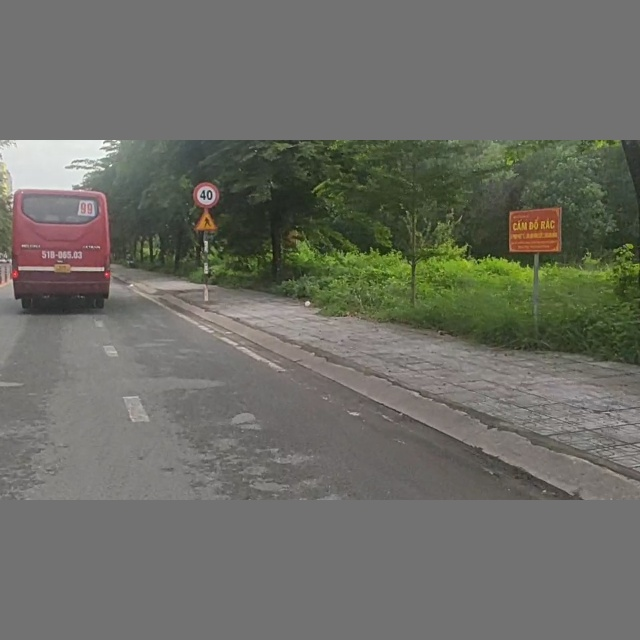P.127*40: (194, 183, 221, 208)
W.224: (195, 211, 220, 233)
